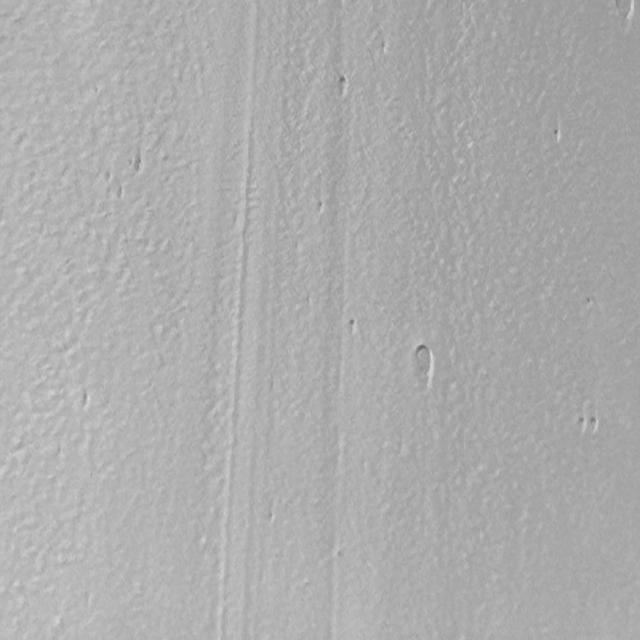pin holes: (409, 342, 437, 390), (611, 0, 639, 31), (578, 414, 600, 437), (333, 73, 352, 96), (576, 413, 590, 435), (267, 502, 278, 529), (550, 127, 565, 145), (586, 414, 600, 433), (132, 155, 144, 176), (346, 318, 359, 337), (315, 198, 326, 220), (81, 392, 93, 412), (583, 295, 597, 309), (102, 169, 114, 185)
